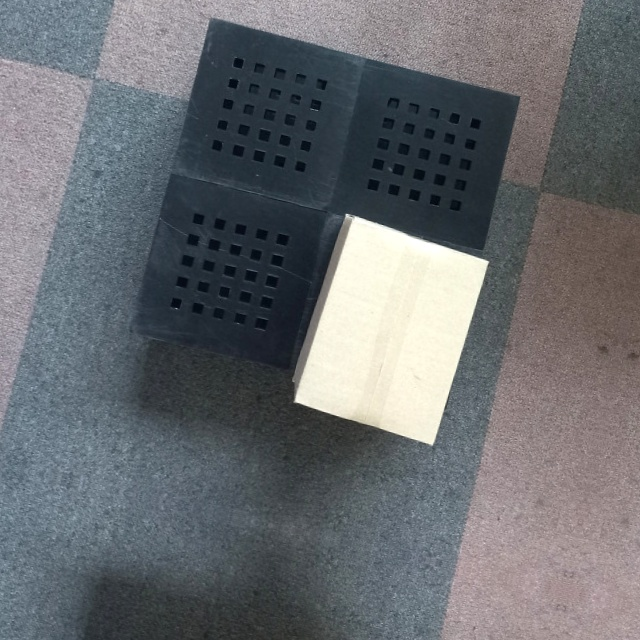box: (292, 210, 491, 450)
pallet: (121, 14, 529, 401)
